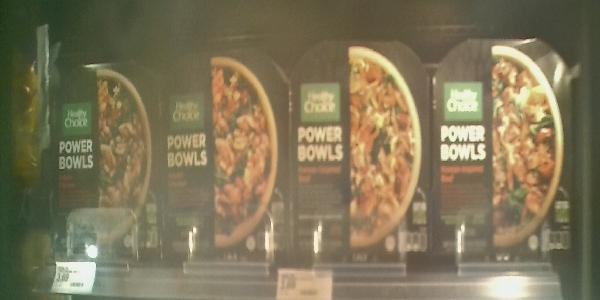pizza1: (291, 41, 432, 262), (431, 38, 572, 258), (165, 45, 291, 263), (52, 62, 167, 262)
